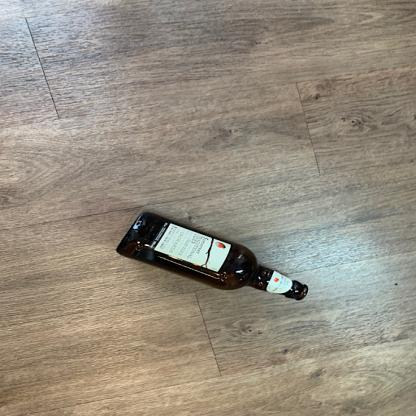trash: (117, 212, 312, 304)
